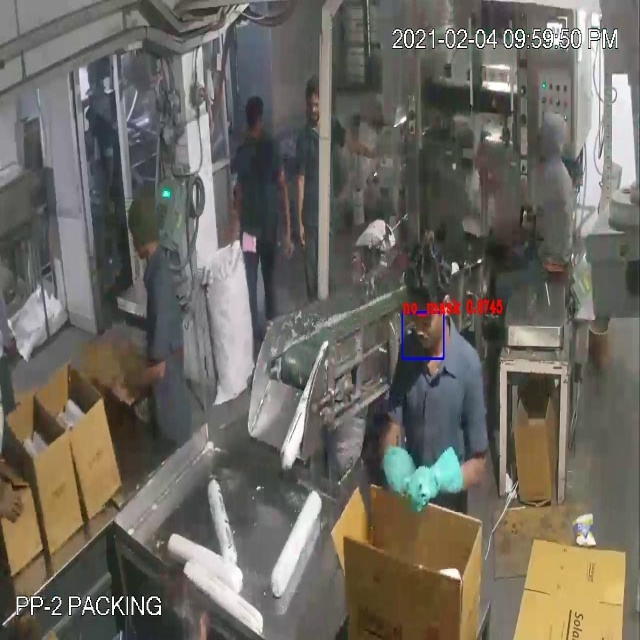Guantes: (399, 440, 483, 519), (366, 431, 419, 517)
Sin_guantes: (103, 351, 179, 407), (1, 455, 30, 541), (344, 124, 391, 176), (275, 159, 295, 268), (223, 170, 248, 256), (295, 161, 315, 252)
